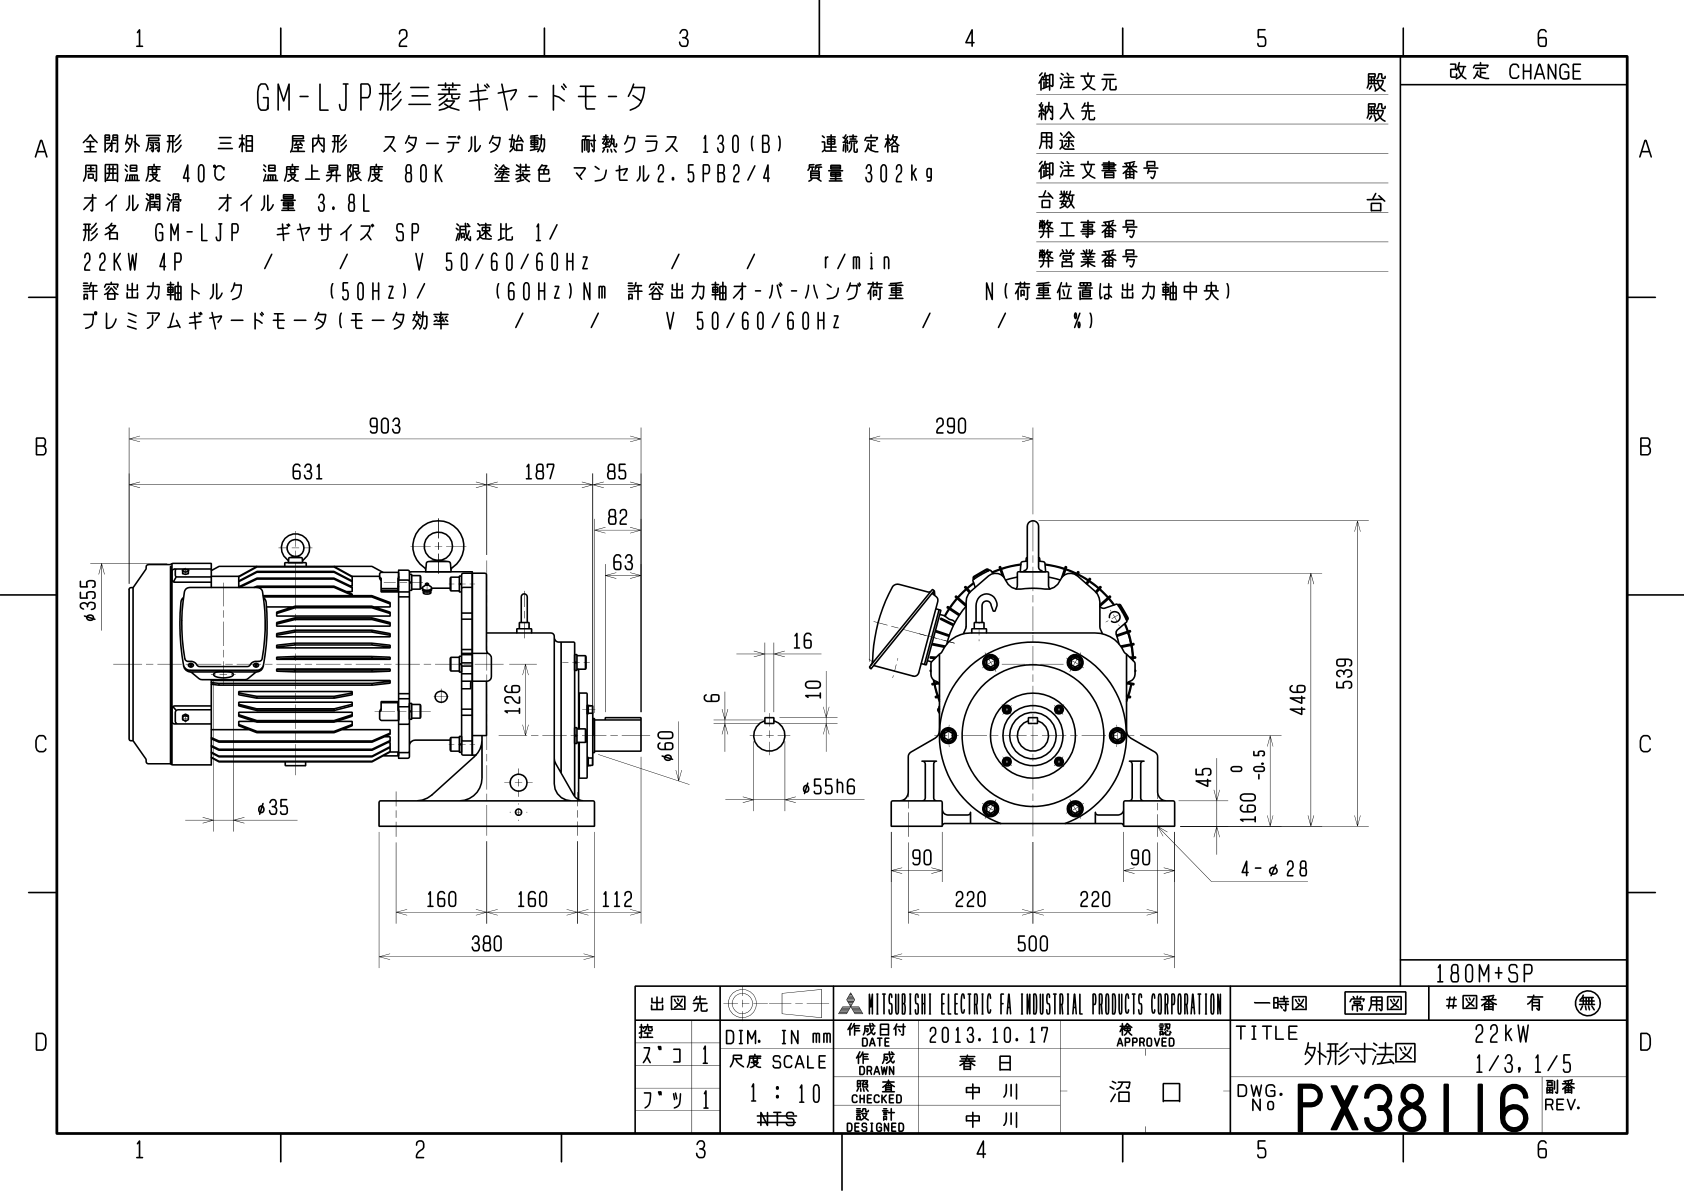GM_LJP_屋内_三相_脚: (67, 391, 1379, 973)
